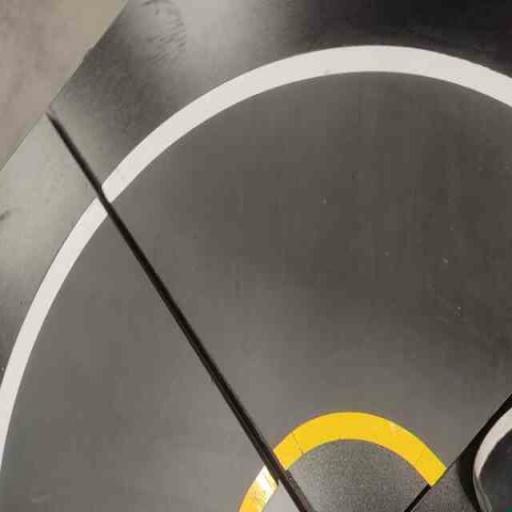left: (95, 6, 511, 482)
